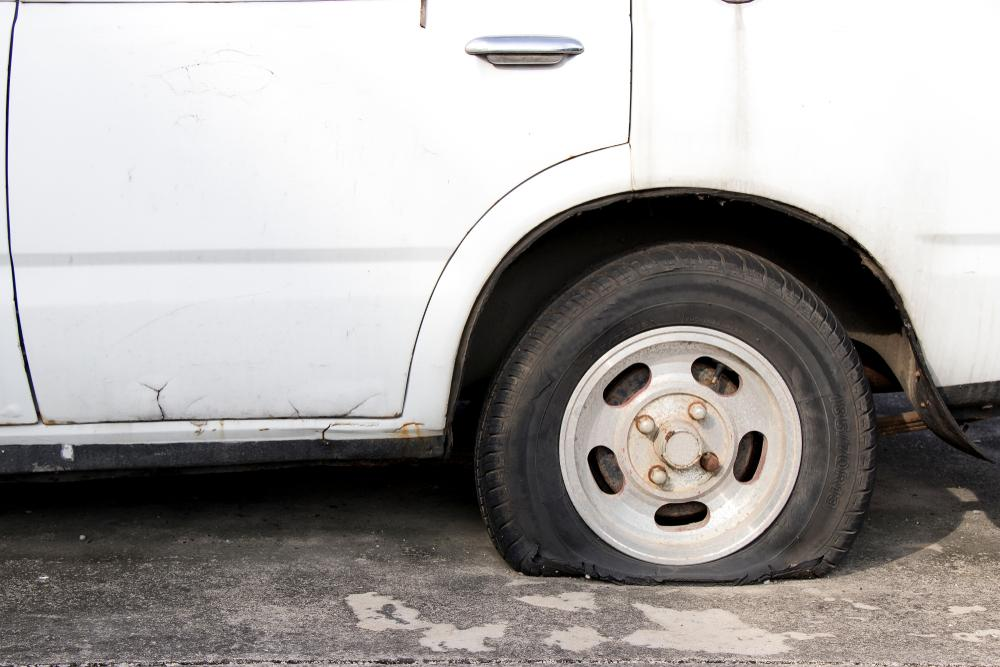tire flat: (477, 241, 874, 588)
